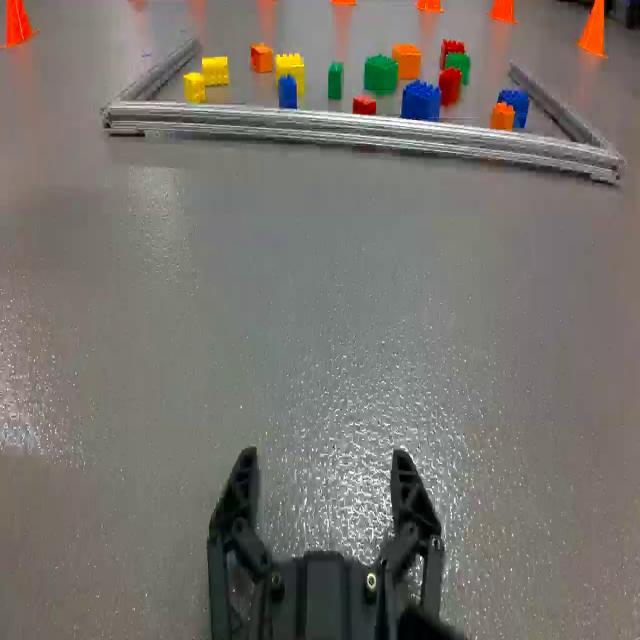block: (275, 53, 304, 92), (201, 53, 229, 87), (183, 72, 205, 101)
blue: (402, 76, 440, 119), (497, 89, 530, 129), (276, 75, 297, 105)
cone: (573, 0, 613, 60), (0, 0, 41, 41), (484, 0, 523, 21), (415, 0, 451, 12), (330, 0, 358, 8)
green: (362, 51, 396, 94), (444, 51, 470, 82), (329, 58, 343, 103)
metal barrier: (104, 38, 624, 184)
orange: (394, 44, 420, 77), (249, 43, 273, 73), (490, 101, 514, 128)
red goal: (439, 66, 460, 103), (439, 38, 464, 67), (353, 92, 377, 112)
